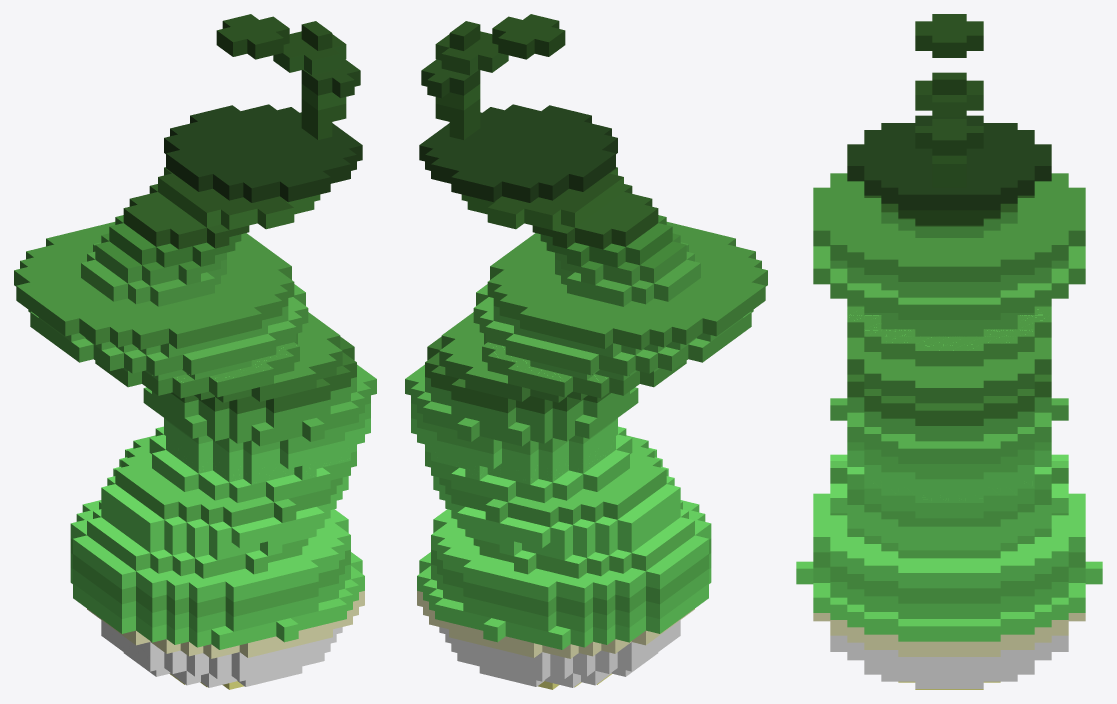
Rendered from TGRND0_flame.obj.
3 views of the same model, side by side, from view 1: azimuth 30°, elevation 25°; view 2: azimuth 150°, elevation 25°; view 3: azimuth 270°, elevation 25° (orthographic). The views are drawn at different scales.
Visible parts, largest first — view 1: TorchFlame; view 2: TorchFlame; view 3: TorchFlame.
Boxes of the visible parts, <box> form: TorchFlame: <box>14,14,376,689</box>; TorchFlame: <box>405,14,767,689</box>; TorchFlame: <box>796,14,1102,689</box>.
Bounding box in the file's own units: 0.5 × 0.9545 × 0.4091.
Materials: 1 (1 with a texture image).
